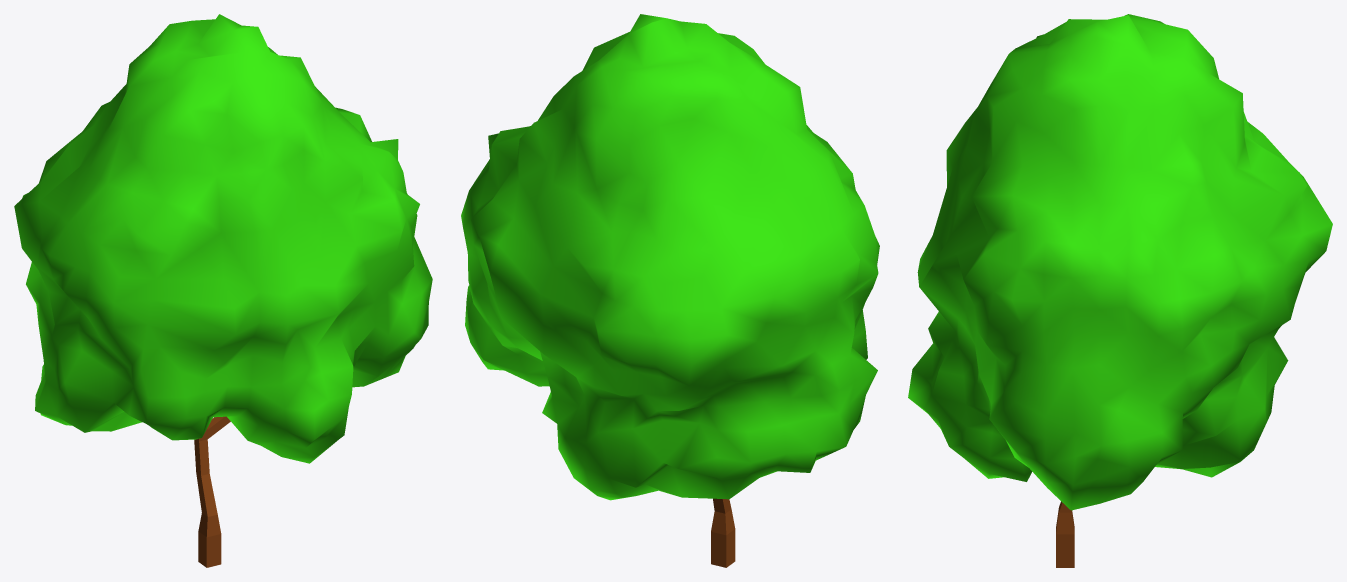
File: SM_OrangeTree_002.fbx
3 renders of one model, left to right at view 1: azimuth 30°, elevation 25°; view 2: azimuth 150°, elevation 25°; view 3: azimuth 270°, elevation 25°, orthographic. The views are drawn at different scales.
Visible parts, largest first — view 1: OrangeTree_02; view 2: OrangeTree_02; view 3: OrangeTree_02.
Boxes of the visible parts, box(x1,y1,x2,y2) form: OrangeTree_02: box(14, 14, 432, 567); OrangeTree_02: box(461, 14, 879, 567); OrangeTree_02: box(908, 14, 1332, 567).
Size of the model in its own units: 361 by 485 by 328.
